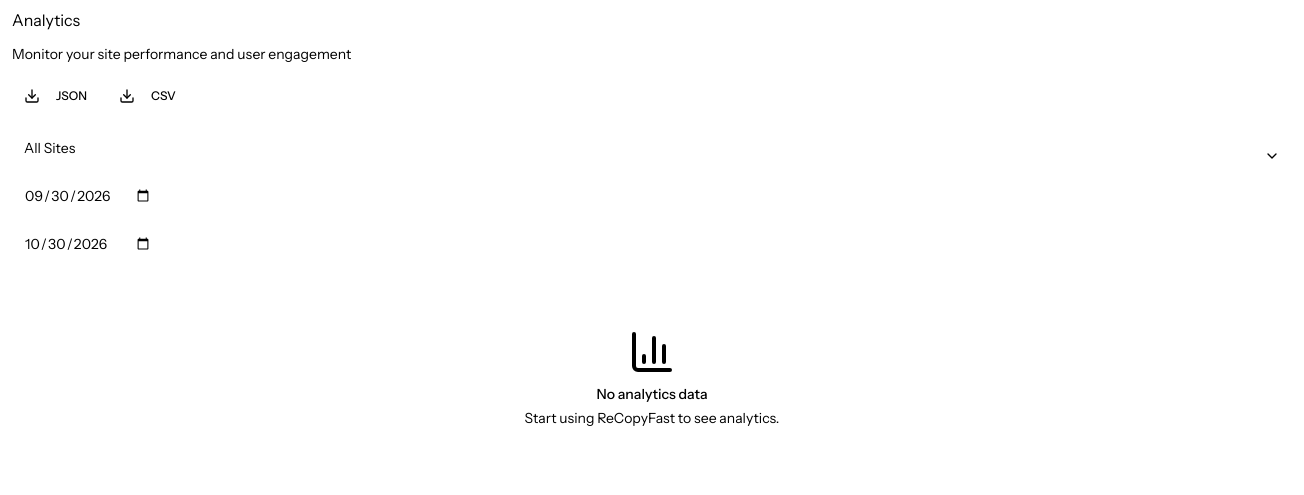
Test: AnalyticsDashboard frame › reports a failed export outside the ready state too
This screenshot has width=1304, height=495.
Expected: the heading "No analytics data" is shown, [596, 385, 708, 403]
Click the button "JSON". click: (56, 96)
box: [12, 80, 99, 112]
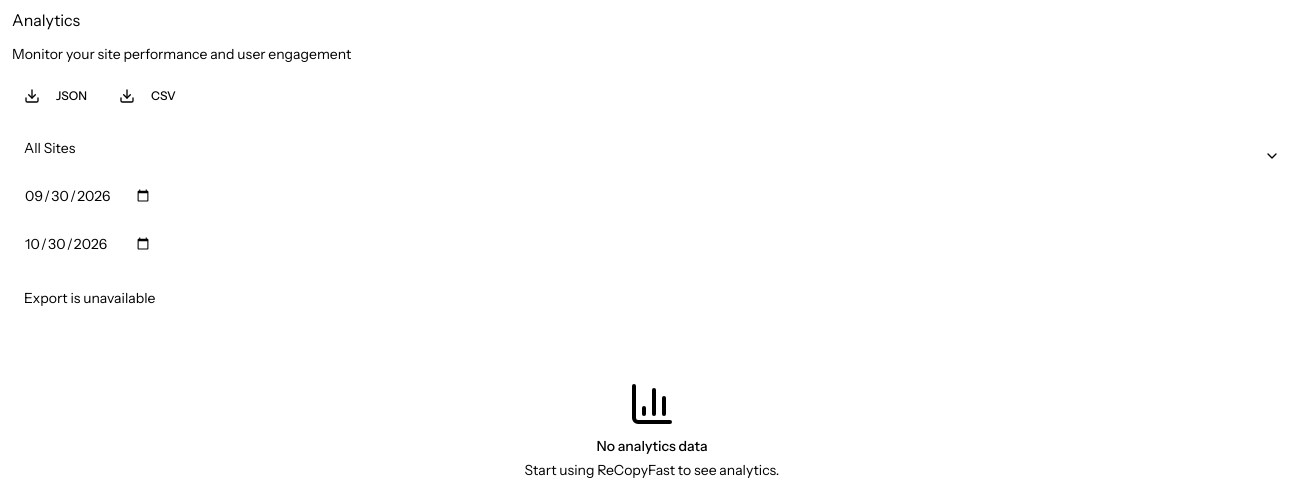
Expected: the message reads "Export is unavailable", [24, 289, 156, 307]
